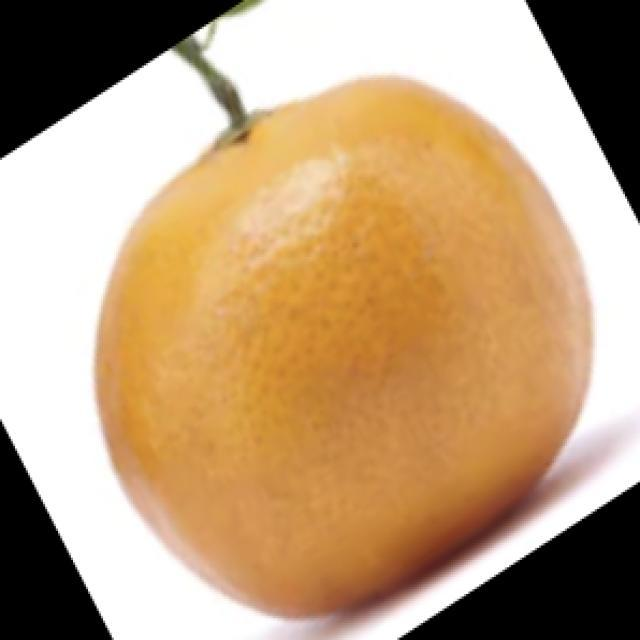Orange: (92, 73, 595, 620)
